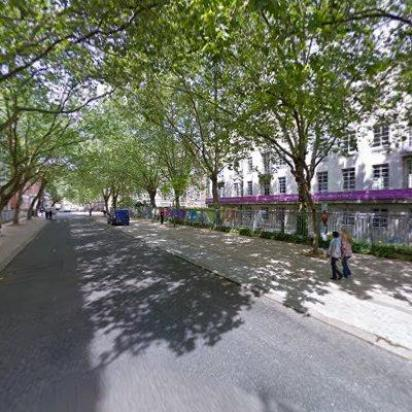stationary-light-truck-onstreet: (106, 207, 132, 226)
